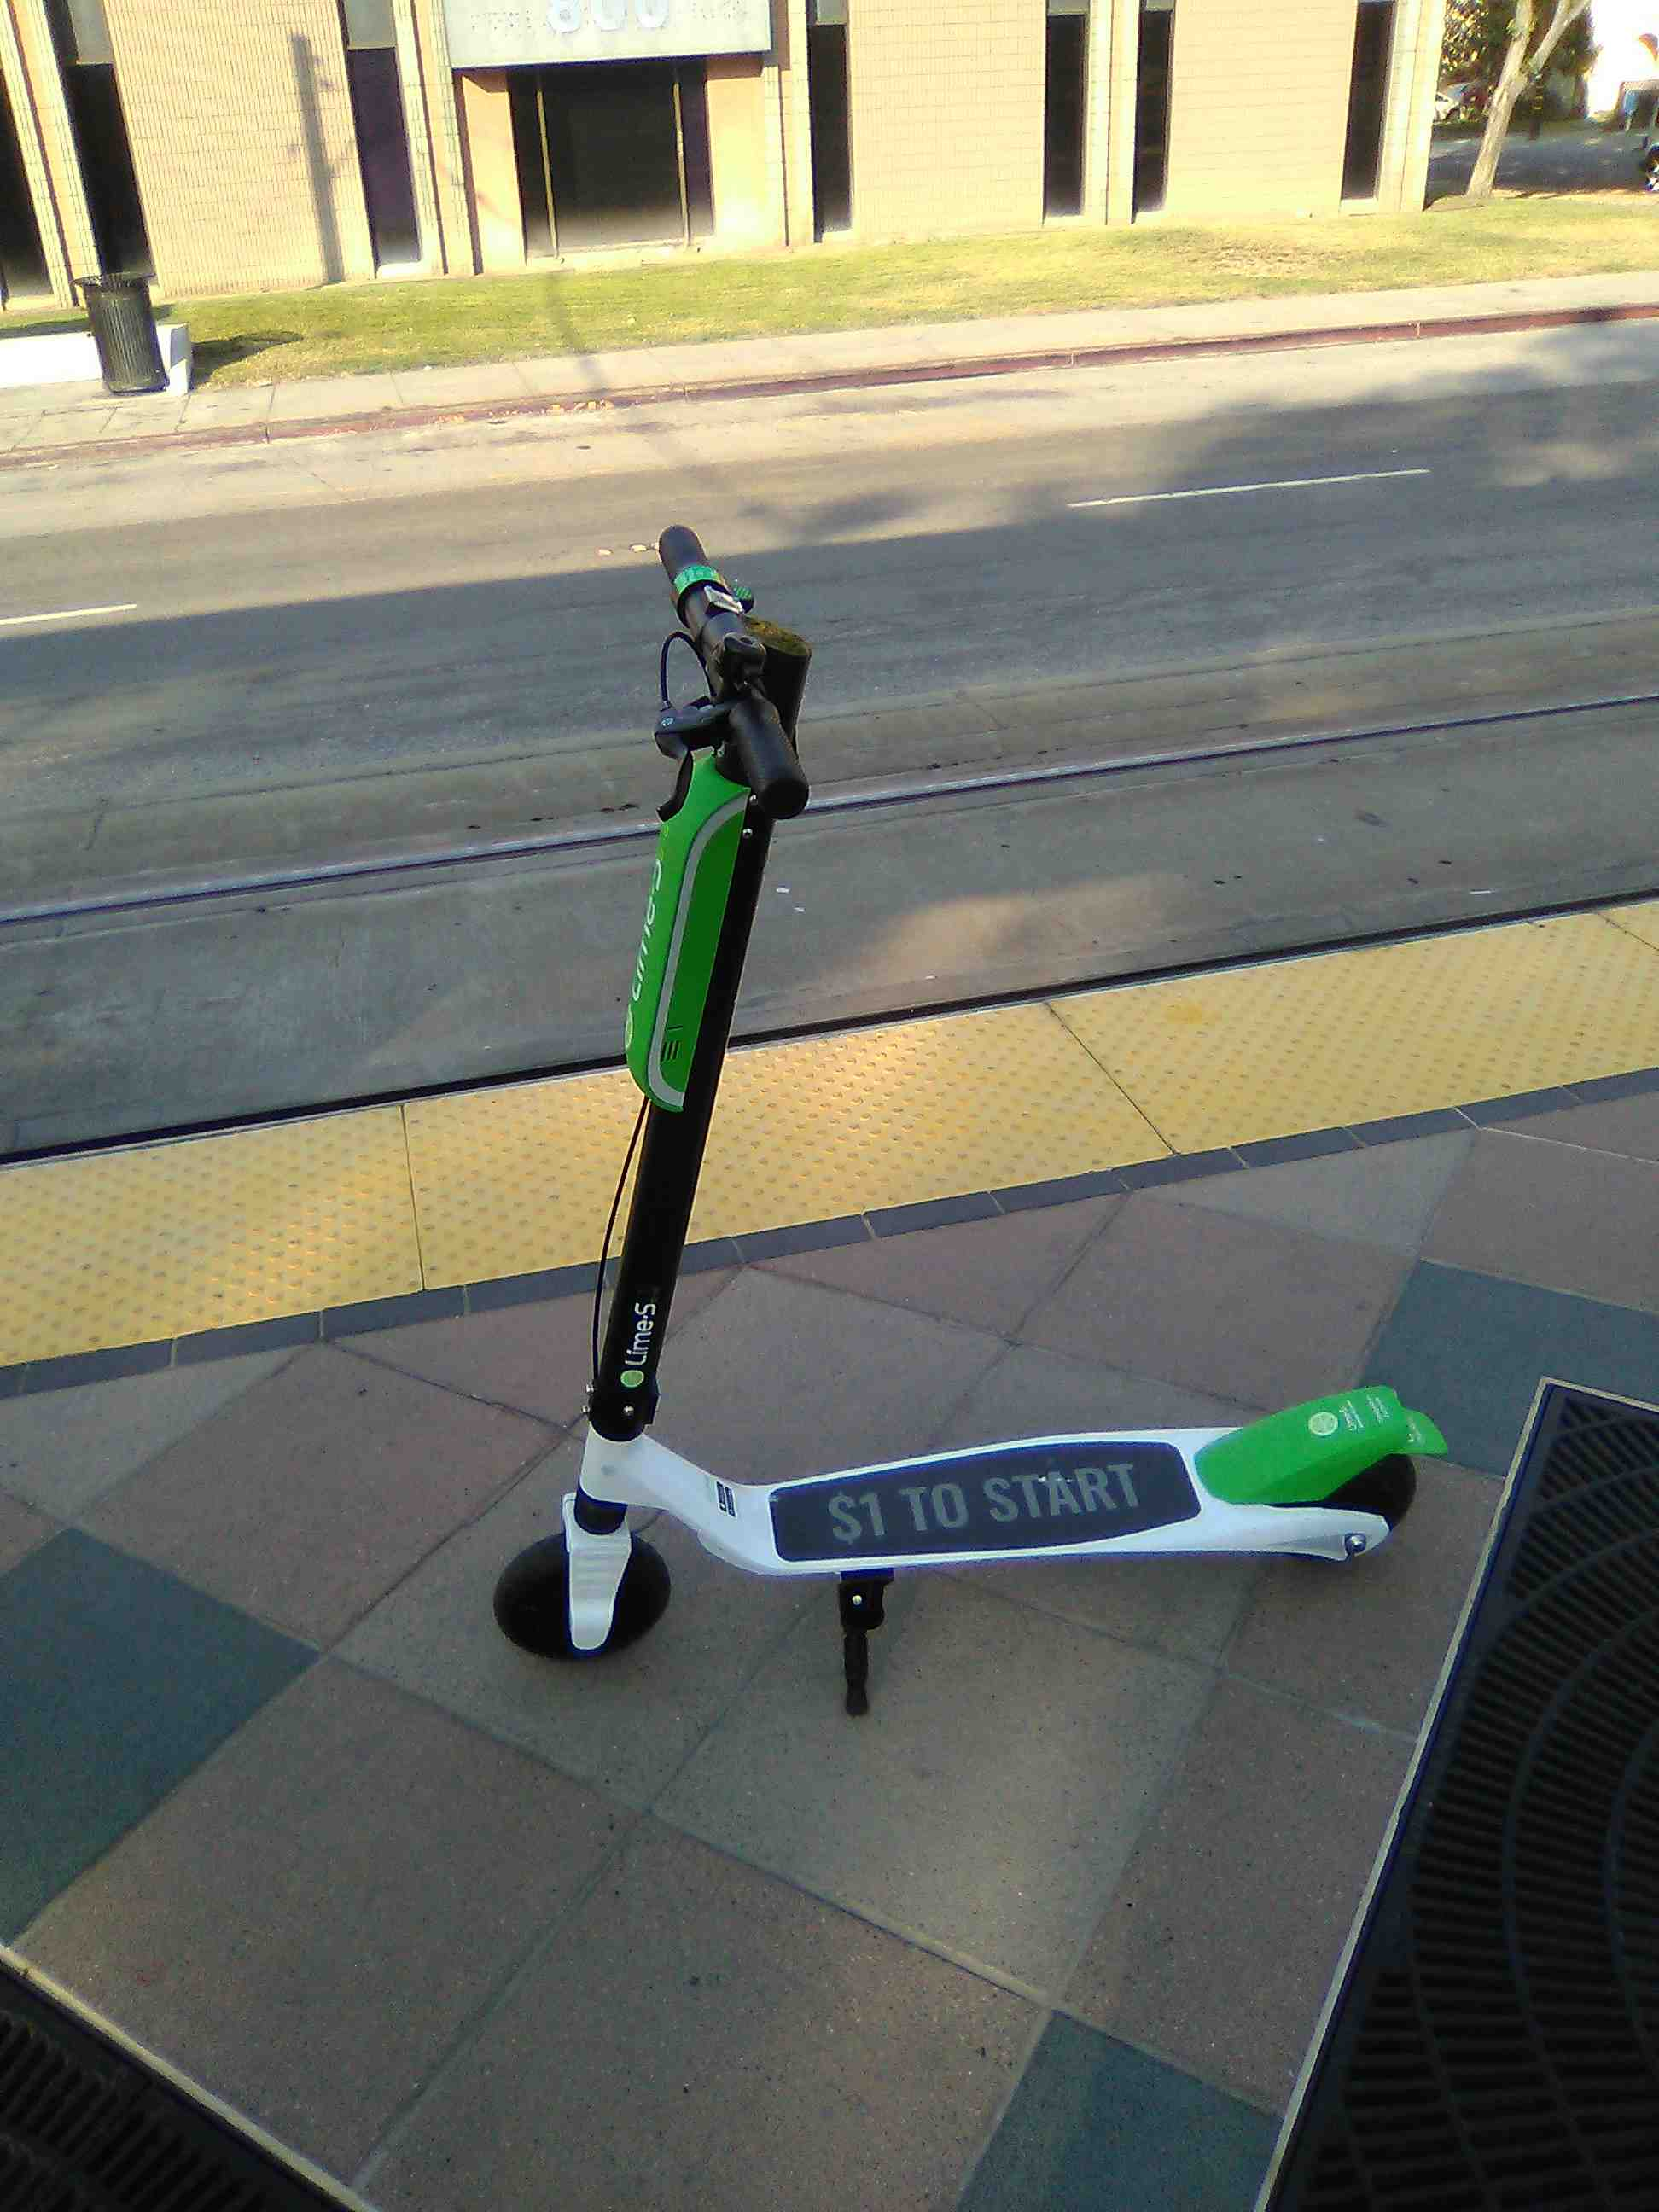scooter: (495, 528, 1457, 1733)
